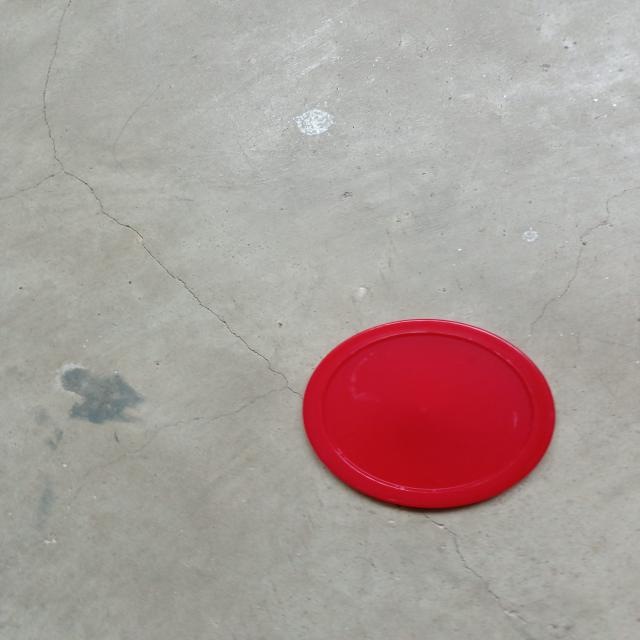chip: (300, 319, 555, 510)
